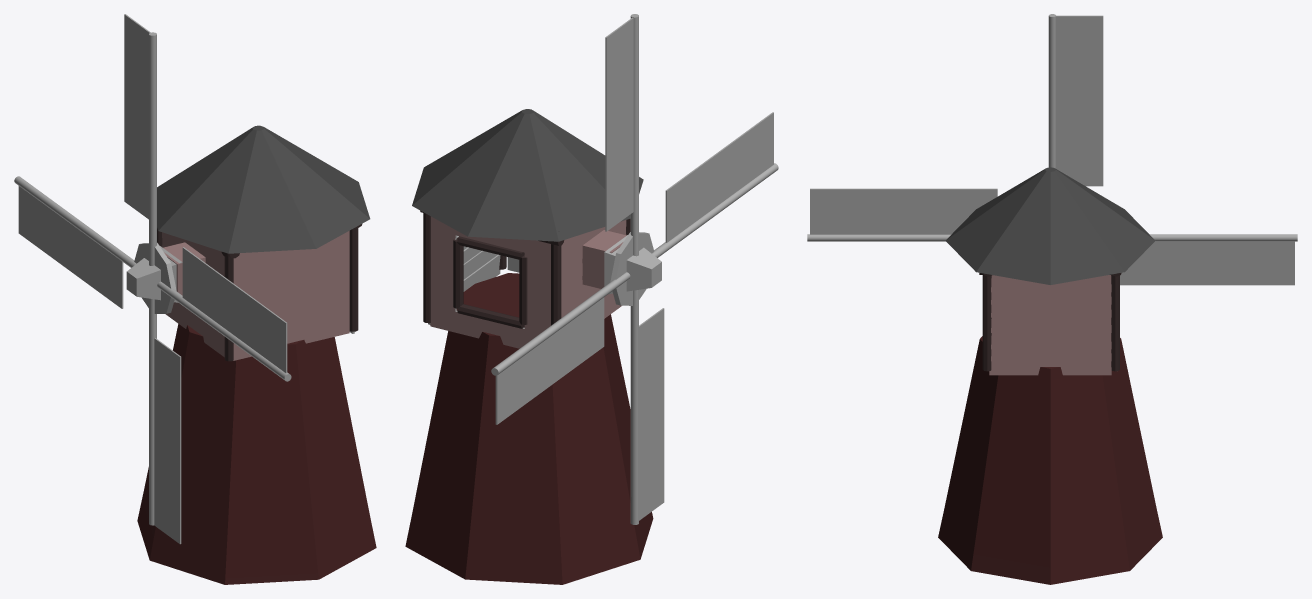
Rendered from mill.fbx.
3 views of the same model, side by side, from view 1: azimuth 30°, elevation 25°; view 2: azimuth 150°, elevation 25°; view 3: azimuth 270°, elevation 25° (orthographic). The views are drawn at different scales.
Visible parts, largest first — view 1: pCylinder41, pCylinder42, pCube4, pCube44, pCube5, pCube2, pCylinder2, pCylinder3, pCube19, pCube20, pCube23, pCube22 (+8 smaller); view 2: pCylinder41, pCylinder42, pCube4, pCube2, pCube5, pCube44, pCylinder2, pCylinder3, pCube32, pCube1, pCube45, pCylinder1 (+12 smaller); view 3: pCylinder41, pCylinder42, pCube4, pCube5, pCube2, pCube43, pCylinder3, pCube15, pCube14, pCube13, pCube17, pCube11 (+5 smaller).
Part boxes in pixels (x1,y1,x2,y2): pCylinder41: [137, 324, 376, 584]; pCylinder42: [157, 125, 370, 253]; pCube4: [182, 247, 287, 372]; pCube44: [154, 338, 181, 544]; pCube5: [18, 186, 123, 308]; pCube2: [124, 14, 150, 219]; pCylinder2: [149, 32, 156, 525]; pCylinder3: [14, 176, 291, 381]; pCube19: [233, 241, 349, 287]; pCube20: [237, 261, 349, 300]; pCube23: [233, 311, 349, 360]; pCube22: [271, 292, 349, 326]; pCylinder41: [405, 273, 653, 584]; pCylinder42: [412, 109, 643, 241]; pCube4: [665, 112, 773, 242]; pCube2: [605, 17, 633, 231]; pCube5: [495, 297, 604, 424]; pCube44: [639, 308, 664, 520]; pCylinder2: [630, 14, 638, 524]; pCylinder3: [491, 163, 778, 375]; pCube32: [430, 306, 540, 348]; pCube1: [604, 235, 661, 294]; pCube45: [582, 230, 626, 288]; pCylinder1: [610, 232, 654, 305]; pCylinder41: [938, 336, 1162, 584]; pCylinder42: [945, 167, 1155, 284]; pCube4: [810, 188, 997, 234]; pCube5: [1120, 241, 1294, 285]; pCube2: [1056, 15, 1103, 186]; pCube43: [1056, 16, 1103, 185]; pCylinder3: [807, 234, 1297, 241]; pCube15: [991, 333, 1111, 349]; pCube14: [991, 317, 1111, 332]; pCube13: [991, 304, 1111, 317]; pCube17: [989, 361, 1111, 375]; pCube11: [991, 275, 1111, 292].
Size of the model in its own units: 1.98 by 4.29 by 4.
